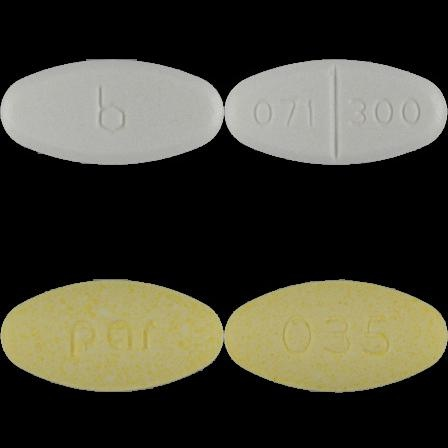0440-1655: (0, 0, 224, 224)
